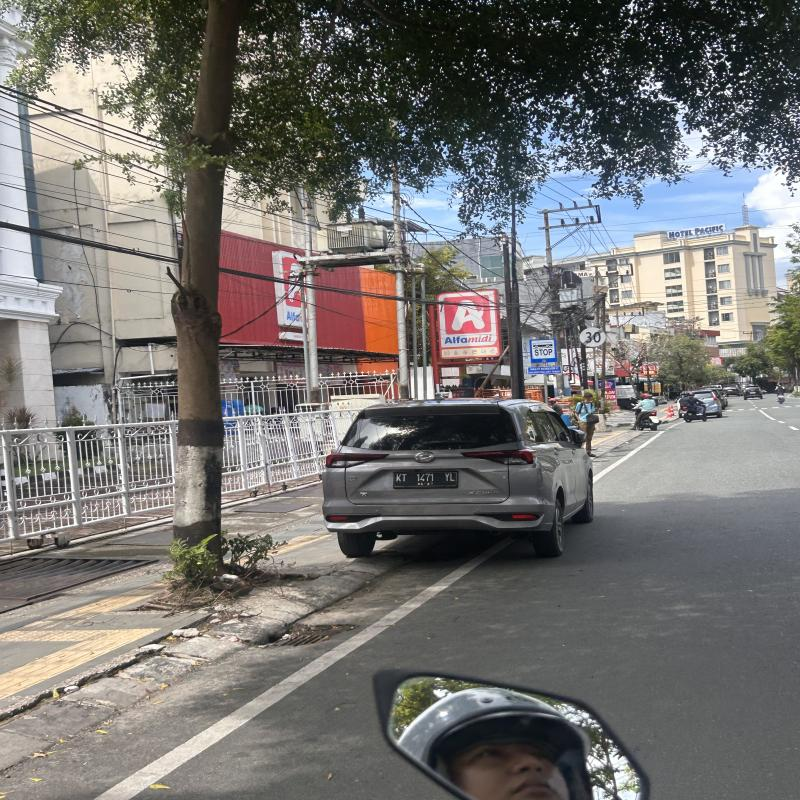license plate on a car: (394, 472, 457, 488)
